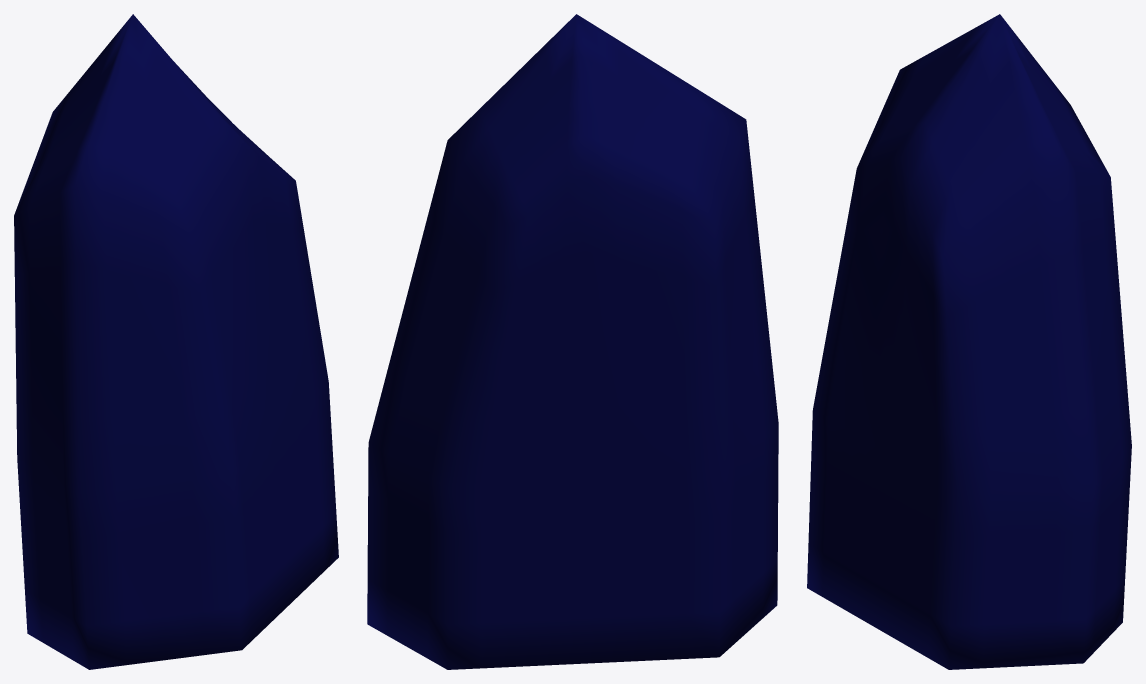
The model's file is Crystal.FBX.
3 views of the same model, side by side, from view 1: azimuth 30°, elevation 25°; view 2: azimuth 150°, elevation 25°; view 3: azimuth 270°, elevation 25° (orthographic). The views are drawn at different scales.
Parts seen in each view (by area): view 1: crystal05; view 2: crystal05; view 3: crystal05.
Part boxes in pixels (bbox=[...]): crystal05: bbox=[14, 14, 338, 669]; crystal05: bbox=[367, 14, 778, 669]; crystal05: bbox=[807, 14, 1131, 669].
Bounding box in the file's own units: 0.4887 × 0.4508 × 0.8876.
